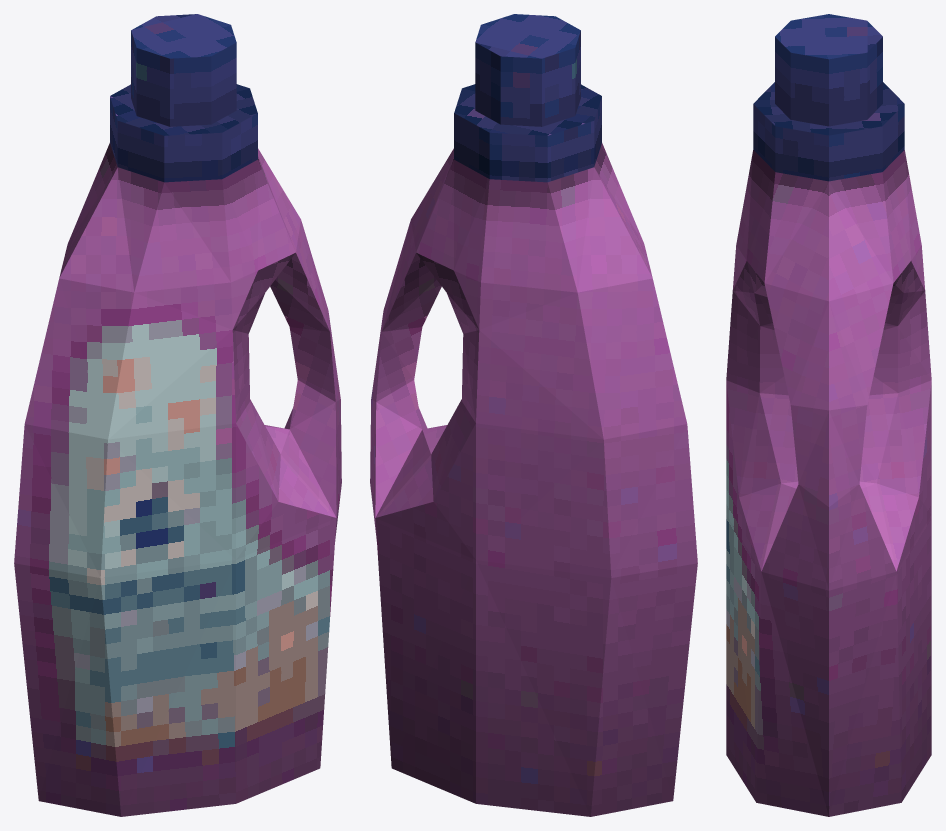
File: fabric-softner.obj
3 renders of one model, left to right at view 1: azimuth 30°, elevation 25°; view 2: azimuth 150°, elevation 25°; view 3: azimuth 270°, elevation 25°, orthographic.
Parts seen in each view (by area): view 1: fabric-softner-col; view 2: fabric-softner-col; view 3: fabric-softner-col.
Part boxes in pixels (x1,y1,x2,y2): fabric-softner-col: (14,14,341,816); fabric-softner-col: (370,14,697,816); fabric-softner-col: (726,14,931,816).
Size of the model in its own units: 0.127 by 0.27 by 0.07.
